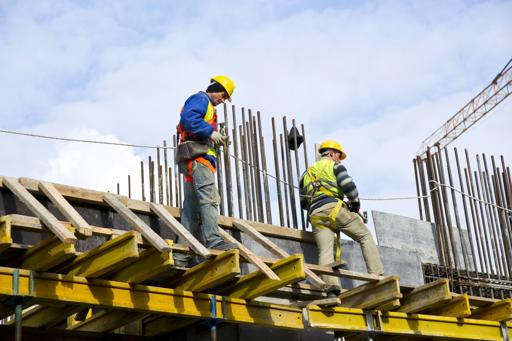hard hat: (212, 76, 239, 102), (319, 140, 351, 158)
safe person: (176, 74, 264, 253), (299, 137, 399, 294)
